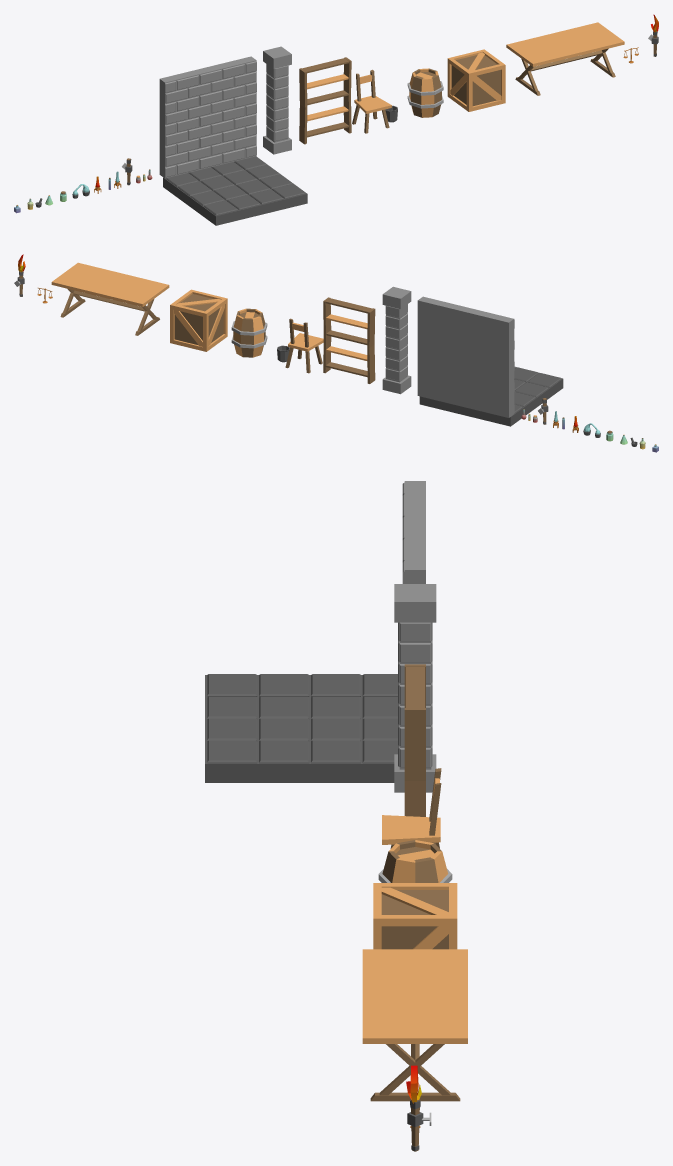
File: AlchemyLabAssets.fbx
3 views of the same model, one above another, from view 1: azimuth 30°, elevation 25°; view 2: azimuth 150°, elevation 25°; view 3: azimuth 270°, elevation 25° (orthographic). The views are drawn at different scales.
Visible parts, largest first — view 1: BrickWall, FloorTile, Table, Crate, Column, Shelf, Barrel, Chair; view 2: BrickWall, Table, Crate, Column, FloorTile, Shelf, Barrel, Chair; view 3: FloorTile, Table, Crate, Column, Shelf, Barrel, BrickWall, Chair, TorchLit.
Part boxes in pixels (x1,y1,x2,y2): BrickWall: (159,56,256,178); FloorTile: (163,156,307,225); Table: (506,22,624,95); Crate: (447,49,505,111); Column: (263,46,291,154); Shelf: (299,57,351,144); Barrel: (407,68,443,117); Chair: (352,69,391,133); BrickWall: (417,296,514,417); Table: (51,262,169,335); Crate: (170,289,227,351); Column: (382,286,411,394); FloorTile: (419,366,563,426); Shelf: (323,297,375,383); Barrel: (231,308,267,357); Chair: (285,318,323,373); FloorTile: (205,674,397,782); Table: (362,949,467,1101); Crate: (373,883,457,949); Column: (394,584,436,792); Shelf: (404,664,425,816); Barrel: (378,840,452,882); BrickWall: (402,481,425,583); Chair: (382,768,441,848); TorchLit: (406,1065,431,1151).
Size of the model in its own units: 1404 by 222 by 250.
